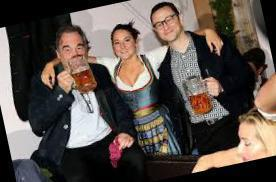Drunk: (59, 31, 87, 69), (151, 7, 181, 42), (111, 30, 136, 59)
